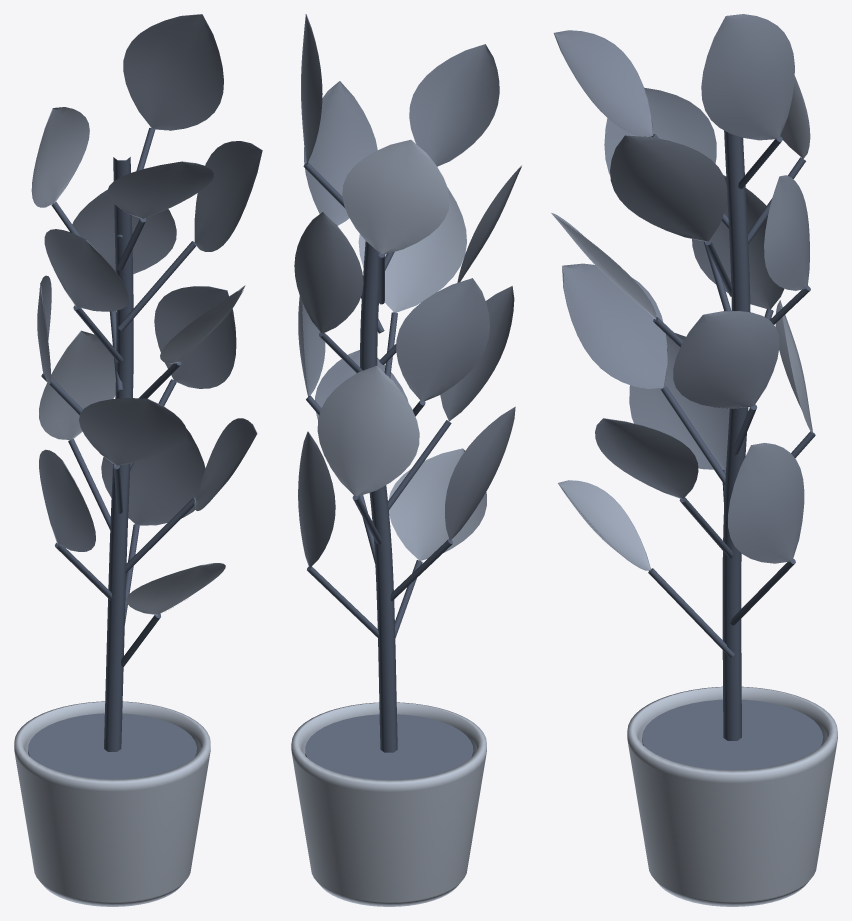
Rendered from plant-rubber.glb.
3 views of the same model, side by side, from view 1: azimuth 30°, elevation 25°; view 2: azimuth 150°, elevation 25°; view 3: azimuth 270°, elevation 25° (orthographic). The views are drawn at different scales.
Visible parts, largest first — view 1: soft, body, dark, light, glass; view 2: soft, light, body, dark, glass; view 3: soft, body, dark, glass, light.
Boxes of the visible parts, x1=… form: soft: x1=37, y1=14, x2=262, y2=551; body: x1=14, y1=701, x2=210, y2=906; dark: x1=41, y1=127, x2=195, y2=751; light: x1=31, y1=107, x2=245, y2=615; glass: x1=28, y1=713, x2=196, y2=779; soft: x1=294, y1=14, x2=521, y2=567; light: x1=317, y1=139, x2=486, y2=560; body: x1=291, y1=702, x2=486, y2=906; dark: x1=303, y1=162, x2=452, y2=752; glass: x1=305, y1=714, x2=473, y2=779; soft: x1=553, y1=14, x2=809, y2=563; body: x1=627, y1=686, x2=837, y2=906; dark: x1=648, y1=130, x2=815, y2=740; glass: x1=642, y1=699, x2=823, y2=769; light: x1=551, y1=76, x2=812, y2=570.
Bounding box in the file's own units: 0.3421 × 1.45 × 0.4171.
